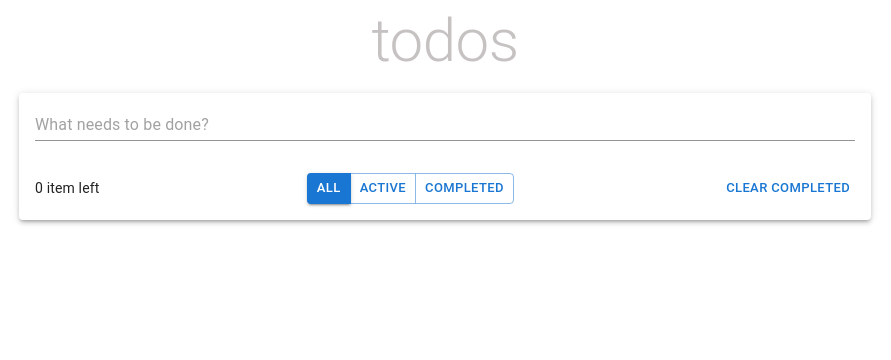
ToDo App › фильтрует задачи: Completed
Type "Активная задача" into the field with placeholder "What needs to be done?" at (445, 125), box [35, 109, 855, 141]
Then press Enter
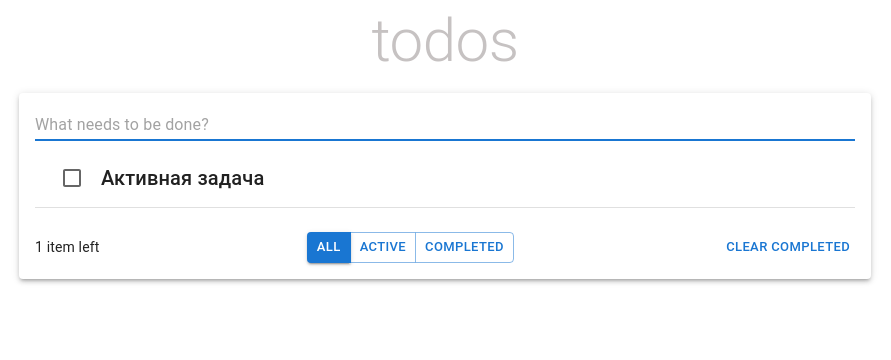
Type "Выполненная задача" into the field with placeholder "What needs to be done?" at (445, 125), box [35, 109, 855, 141]
Then press Enter
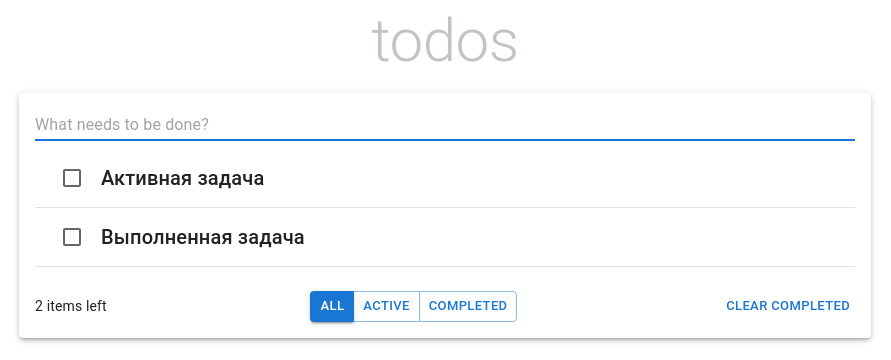
Click the checkbox next to "Выполненная задача" at (72, 237), box [60, 225, 84, 249]
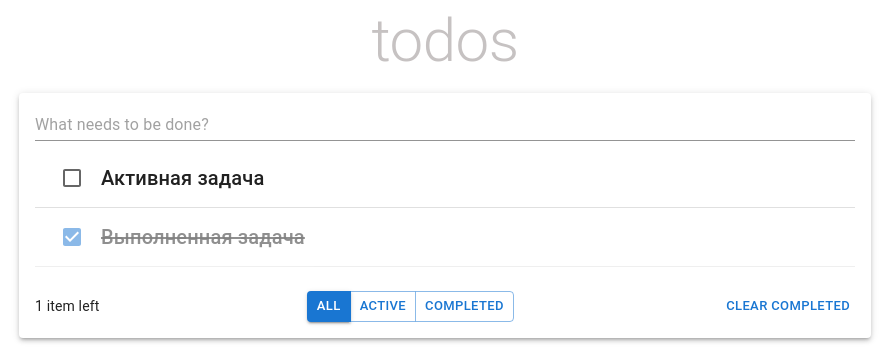
Click the button "Completed" at (464, 306), box [415, 291, 514, 322]
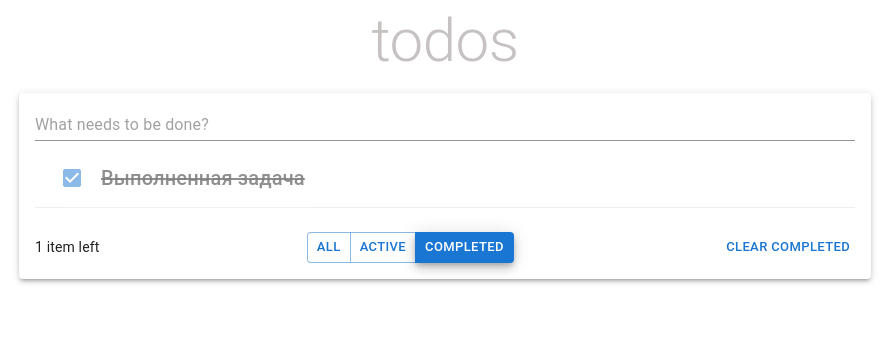
Expected: the heading "Выполненная задача" is shown, [101, 162, 305, 194]
Expected: the heading "Активная задача" is gone
